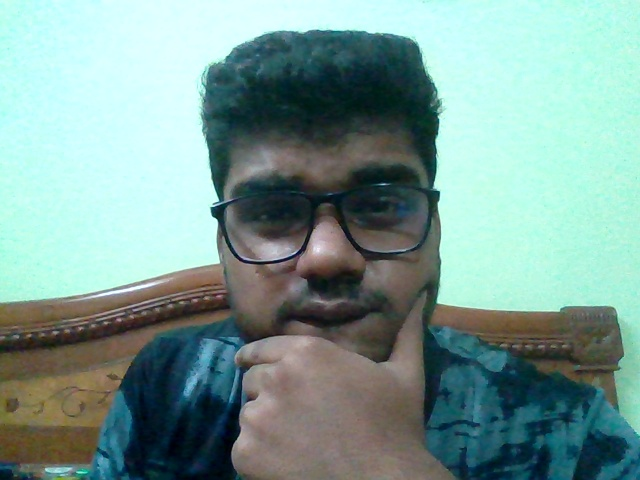Sheesh: (201, 30, 444, 480)
